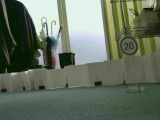speed_20: (119, 36, 139, 55)
